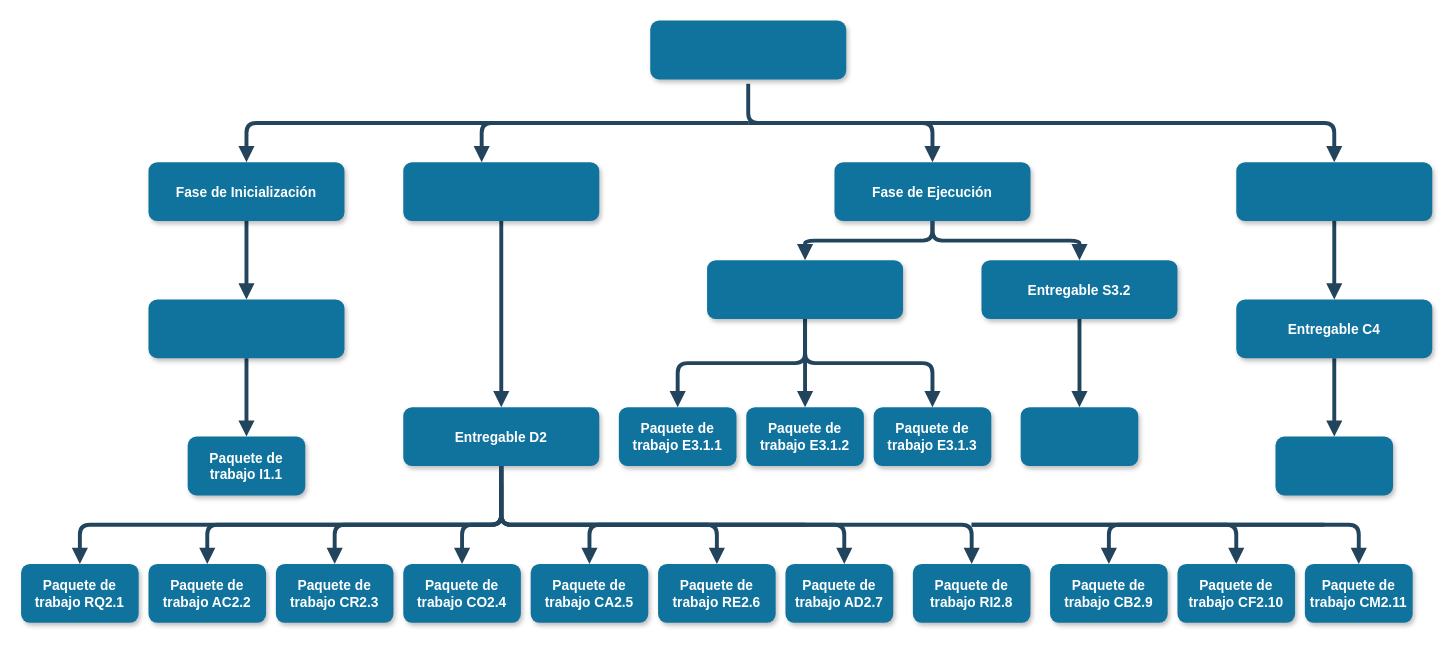
The diagram is 1454 pixels wide and 647 high, and some of its shapes have lost their labels. Each missing label, with the centre of its shape:
Entregable E3.1: the point at 805,290
Entregable I1: the point at 247,330
Fase de Cierre: the point at 1335,192
Fase de Dirección: the point at 502,192
MotosParaTodos: the point at 749,51
Paquete de trabajo CI4.1: the point at 1334,467
Paquete de trabajo S3.2.1: the point at 1080,437
